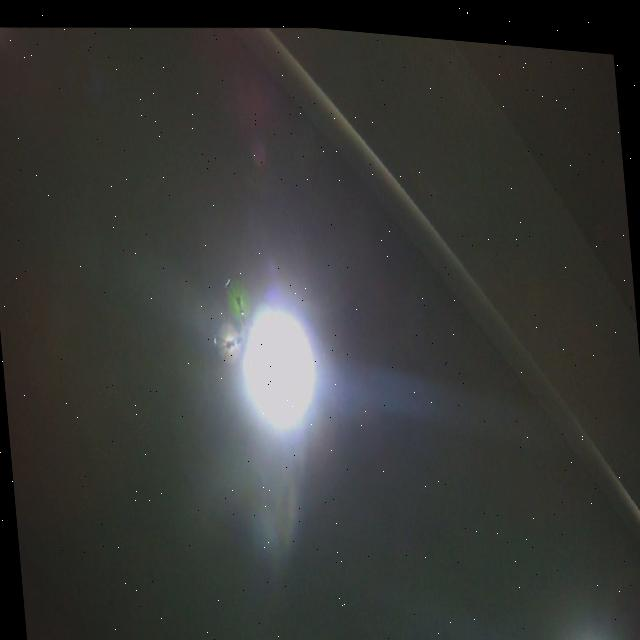drone: (206, 260, 287, 396)
